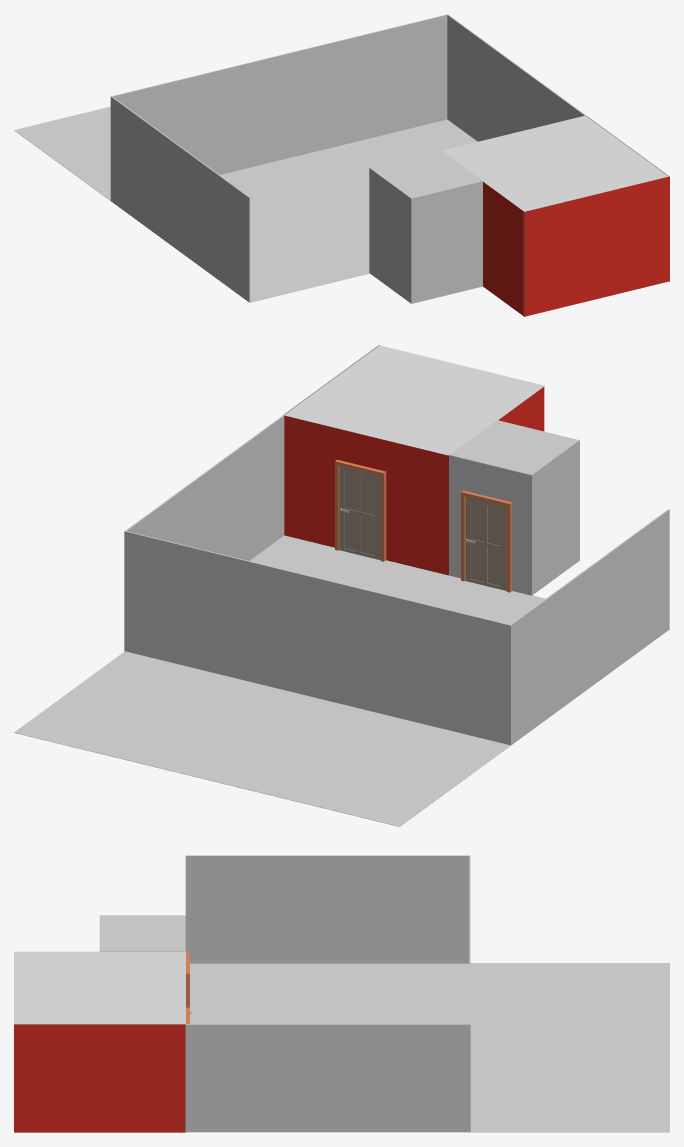
File: House_01.fbx
The picture shows the model from 3 angles, top to bottom: view 1: azimuth 30°, elevation 25°; view 2: azimuth 150°, elevation 25°; view 3: azimuth 270°, elevation 25°; orthographic projection. The views are drawn at different scales.
Visible parts, largest first — view 1: Cube.012, LivingRoom, Wall.002, Cube.011, Ceiling, Cube.010, Cube.005, Kitchen, Cube.004, Wall.001, Closet.001; view 2: Cube.012, Kitchen, DiningRoom, Cube.011, Ceiling, Wall.003, Cube.010, LivingRoom, Cube.004, Cube.006, Closet.001, UpperDrawer.005 (+2 smaller); view 3: Cube.010, Cube.011, Wall, DiningRoom, LivingRoom, Kitchen, Ceiling, Closet.001, Cube.012.
Part boxes in pixels (left/top/right/bottom): Cube.012: left=110, top=14, right=447, bottom=200; LivingRoom: left=111, top=119, right=477, bottom=302; Wall.002: left=524, top=176, right=668, bottom=316; Cube.011: left=111, top=96, right=250, bottom=302; Ceiling: left=442, top=115, right=668, bottom=211; Cube.010: left=447, top=14, right=585, bottom=141; Cube.005: left=411, top=181, right=482, bottom=303; Kitchen: left=14, top=106, right=110, bottom=200; Cube.004: left=369, top=168, right=411, bottom=302; Wall.001: left=483, top=182, right=524, bottom=315; Closet.001: left=370, top=150, right=483, bottom=198; Cube.012: left=124, top=531, right=511, bottom=745; Kitchen: left=207, top=698, right=510, bottom=826; DiningRoom: left=14, top=651, right=317, bottom=779; Cube.011: left=510, top=509, right=669, bottom=744; Ceiling: left=284, top=345, right=544, bottom=455; Wall.003: left=283, top=415, right=448, bottom=575; Cube.010: left=125, top=415, right=284, bottom=560; LivingRoom: left=250, top=535, right=669, bottom=745; Cube.004: left=531, top=440, right=579, bottom=595; Cube.006: left=449, top=455, right=531, bottom=595; Closet.001: left=449, top=420, right=579, bottom=475; UpperDrawer.005: left=339, top=466, right=380, bottom=560; Cube.010: left=185, top=1024, right=470, bottom=1132; Cube.011: left=185, top=855, right=469, bottom=963; Wall: left=14, top=1024, right=185, bottom=1132; DiningRoom: left=470, top=1047, right=669, bottom=1132; LivingRoom: left=190, top=963, right=469, bottom=1023; Kitchen: left=470, top=963, right=669, bottom=1047; Ceiling: left=14, top=951, right=185, bottom=1024; Closet.001: left=99, top=915, right=185, bottom=951; Cube.012: left=469, top=855, right=470, bottom=1131.
Size of the model in its own units: 2806 by 838 by 4594.
